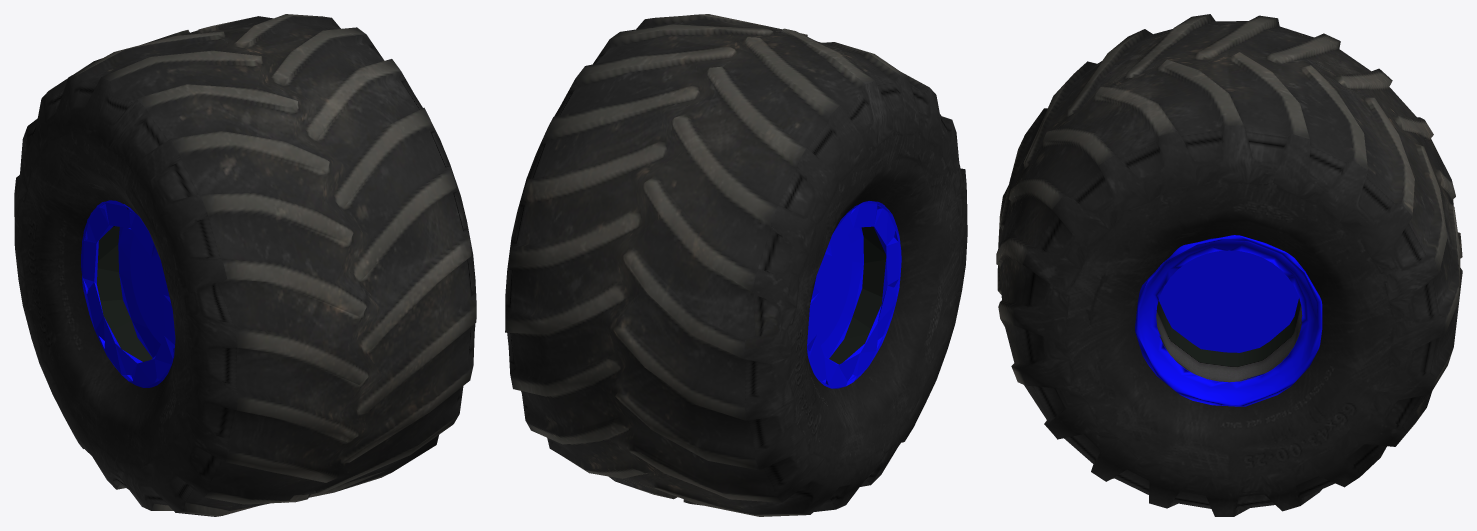
Rendered from low poly tyre.fbx.
The picture shows the model from 3 angles, left to right: view 1: azimuth 30°, elevation 25°; view 2: azimuth 150°, elevation 25°; view 3: azimuth 270°, elevation 25°; orthographic projection. The views are drawn at different scales.
Parts seen in each view (by area): view 1: CRD_bkttire_FL4; view 2: CRD_bkttire_FL4; view 3: CRD_bkttire_FL4.
Part boxes in pixels (x1,y1,x2,y2): CRD_bkttire_FL4: [14, 14, 476, 516]; CRD_bkttire_FL4: [505, 14, 967, 516]; CRD_bkttire_FL4: [996, 14, 1462, 516].
Bounding box in the file's own units: 114 × 172 × 172.
